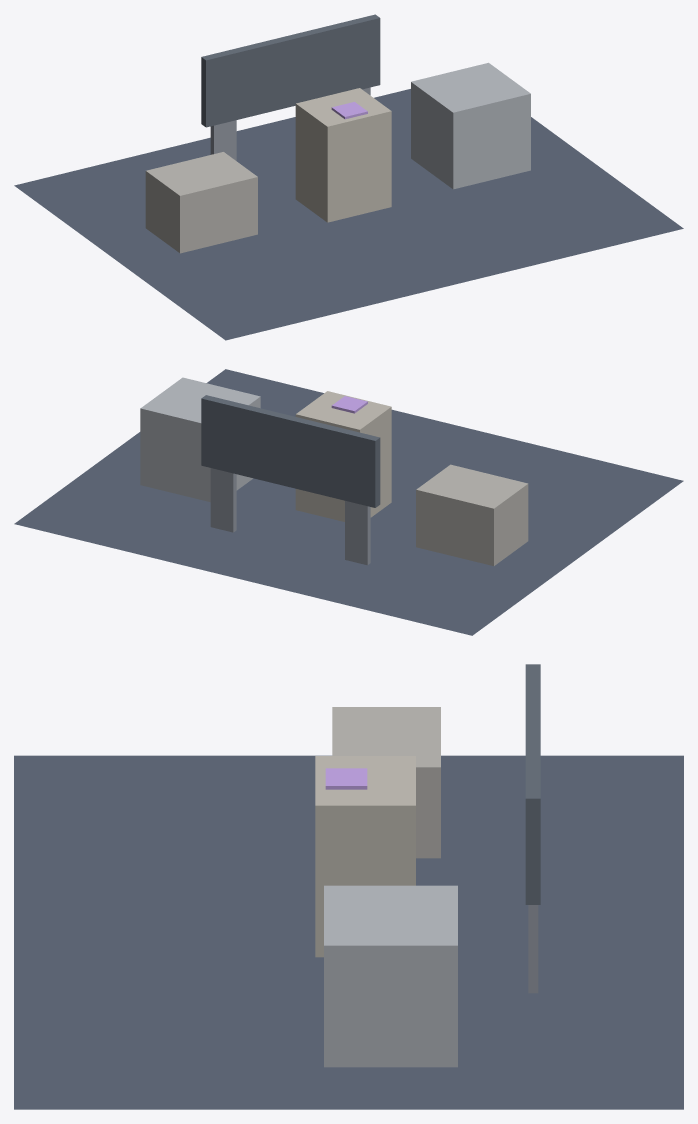
Rendered from world.glb.
The picture shows the model from 3 angles, top to bottom: view 1: azimuth 30°, elevation 25°; view 2: azimuth 150°, elevation 25°; view 3: azimuth 270°, elevation 25°; orthographic projection. The views are drawn at different scales.
Visible parts, largest first — view 1: did_you_know_opaque_mesh; view 2: did_you_know_opaque_mesh; view 3: did_you_know_opaque_mesh, did_you_know_emissive_mesh.
Part boxes in pixels (box(x1,y1,x2,y2)): did_you_know_opaque_mesh: box(14, 14, 683, 340); did_you_know_opaque_mesh: box(14, 369, 683, 635); did_you_know_opaque_mesh: box(14, 664, 683, 1109); did_you_know_emissive_mesh: box(325, 768, 367, 789).
Bounding box in the file's own units: 10 × 2.7 × 8.
